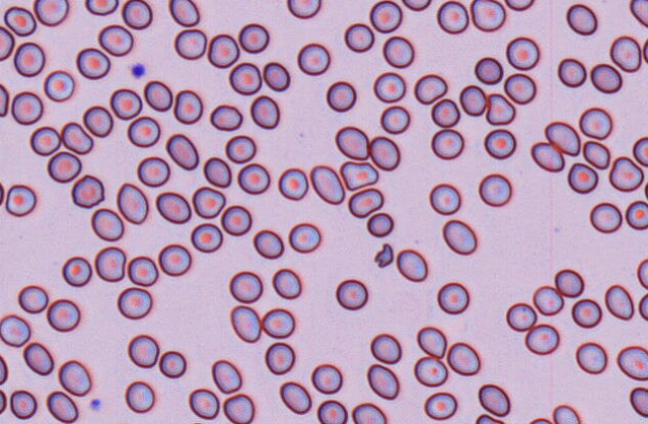PLT: (130, 63, 144, 78), (89, 398, 103, 412)
RBC: (310, 164, 345, 204), (116, 182, 148, 224), (544, 120, 580, 156), (608, 156, 644, 191), (165, 133, 199, 170), (442, 219, 477, 254), (58, 359, 91, 396), (609, 35, 642, 72), (335, 125, 369, 160), (366, 363, 399, 399), (230, 304, 261, 342), (339, 160, 378, 190), (90, 207, 124, 241), (505, 36, 539, 70), (446, 341, 480, 375), (117, 286, 152, 319), (155, 191, 191, 223), (436, 0, 469, 34), (46, 298, 80, 331), (71, 174, 104, 208), (578, 106, 612, 139), (13, 41, 45, 76), (98, 24, 133, 56), (207, 33, 239, 68), (524, 323, 559, 355), (368, 135, 400, 170), (94, 246, 126, 281), (60, 121, 93, 154), (369, 0, 402, 33), (229, 62, 262, 95), (478, 173, 511, 206), (229, 270, 262, 303), (158, 243, 191, 276), (297, 42, 330, 75), (22, 341, 54, 375), (47, 151, 81, 183), (413, 355, 447, 387), (76, 47, 110, 79), (478, 383, 510, 417), (470, 0, 505, 31), (616, 345, 647, 380), (348, 187, 383, 218), (604, 284, 634, 320), (46, 390, 78, 423), (279, 381, 311, 414), (503, 72, 536, 104), (11, 91, 43, 124), (192, 186, 225, 218), (127, 334, 159, 367), (127, 115, 160, 147), (575, 341, 607, 374), (382, 35, 414, 68), (437, 281, 469, 314), (237, 162, 270, 194), (530, 141, 564, 172), (136, 156, 170, 187), (173, 89, 203, 124), (250, 94, 280, 129), (335, 278, 367, 310), (414, 73, 447, 104), (373, 71, 406, 102), (264, 341, 295, 374), (109, 88, 142, 119), (261, 307, 294, 338), (396, 248, 427, 281), (288, 222, 321, 253), (589, 202, 622, 233), (0, 313, 30, 347), (211, 359, 241, 393), (43, 69, 74, 101), (566, 3, 597, 35), (5, 184, 36, 216), (82, 105, 113, 137), (174, 28, 206, 59), (220, 204, 252, 235), (484, 128, 516, 159), (429, 183, 460, 215), (431, 128, 463, 159), (3, 6, 36, 36), (278, 167, 308, 200), (188, 388, 219, 419), (567, 162, 598, 193), (370, 333, 401, 364), (127, 255, 158, 286), (311, 363, 342, 394), (222, 393, 254, 423), (190, 222, 222, 252), (590, 63, 622, 93), (416, 326, 446, 358), (252, 229, 284, 259), (326, 80, 356, 112), (125, 380, 154, 413), (424, 391, 457, 420), (33, 0, 69, 26), (238, 23, 269, 53), (61, 256, 92, 286), (532, 285, 563, 315), (571, 298, 602, 328), (29, 126, 61, 155), (344, 22, 374, 52), (505, 302, 536, 331), (121, 0, 152, 29), (143, 80, 172, 111), (225, 134, 256, 163), (272, 268, 301, 299), (209, 104, 242, 131), (557, 57, 586, 87), (554, 268, 584, 297), (380, 105, 410, 134), (17, 285, 48, 313), (203, 156, 231, 187), (459, 84, 486, 116), (431, 98, 460, 127), (262, 61, 290, 91), (582, 140, 610, 169), (474, 56, 503, 84), (10, 389, 37, 419), (168, 0, 199, 26), (158, 350, 186, 378), (316, 399, 347, 423), (351, 402, 386, 423), (366, 212, 393, 237), (625, 200, 647, 230), (287, 0, 321, 18), (629, 386, 647, 417), (552, 404, 580, 423), (84, 0, 118, 15), (0, 25, 14, 61), (629, 0, 647, 27), (632, 136, 647, 166), (402, 0, 431, 11), (637, 258, 647, 289), (504, 0, 534, 10), (0, 83, 9, 116), (475, 413, 504, 423), (638, 292, 647, 320), (0, 354, 8, 384), (0, 388, 7, 414), (642, 37, 648, 63), (528, 417, 552, 423), (0, 181, 5, 206), (644, 180, 648, 201)
Schistocyte: (484, 92, 516, 125), (373, 243, 394, 269)
